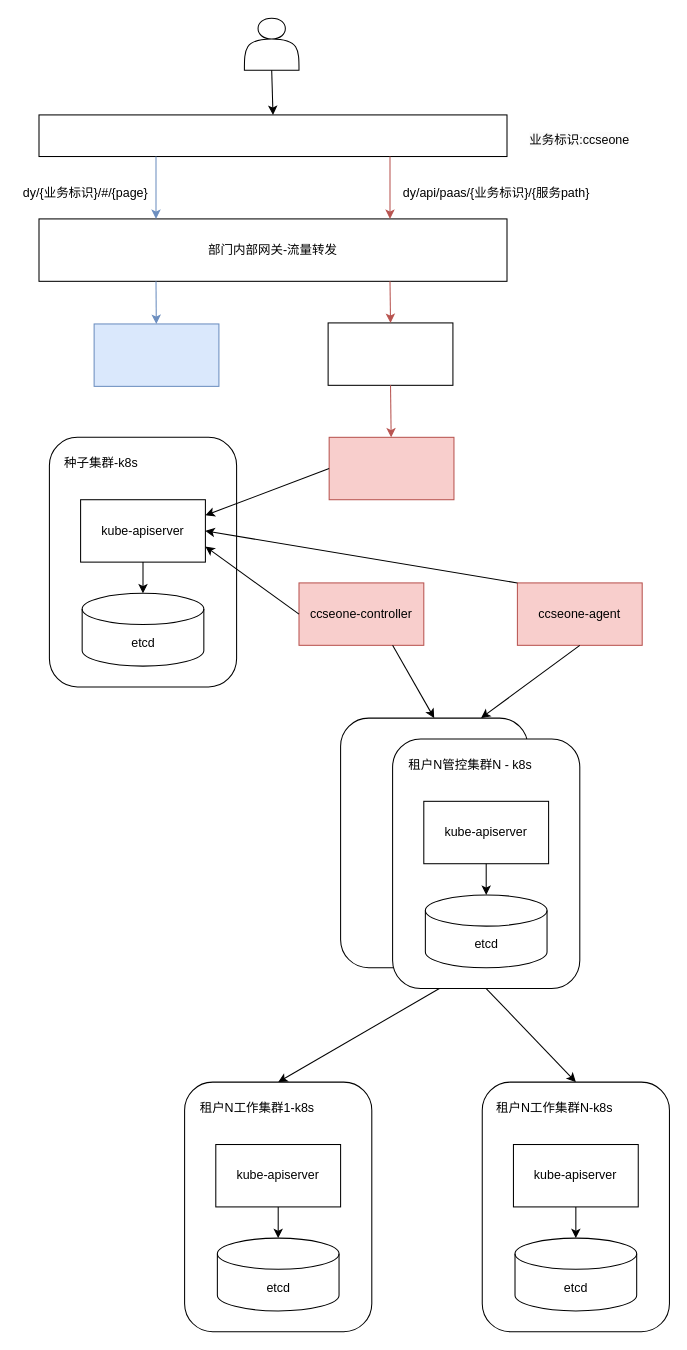
Some shapes in this 687 by 1350 pixel diagram are drawn without their labels. Here are the shapes that lost their labels. From the top down, the centre of each, then its label:
[272,135]: Web浏览器
[156,354]: ccseone-frontend
[390,353]: 后台接口网关-zuul
[391,468]: ccseone-apiserver
